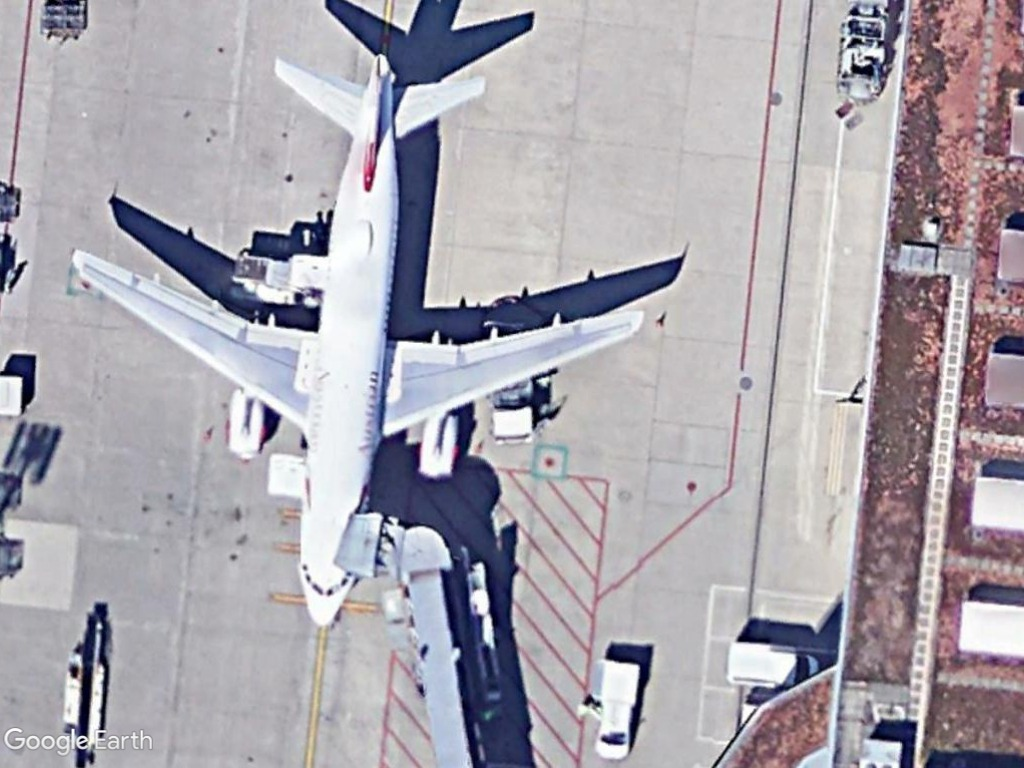airliner: (69, 47, 651, 637)
